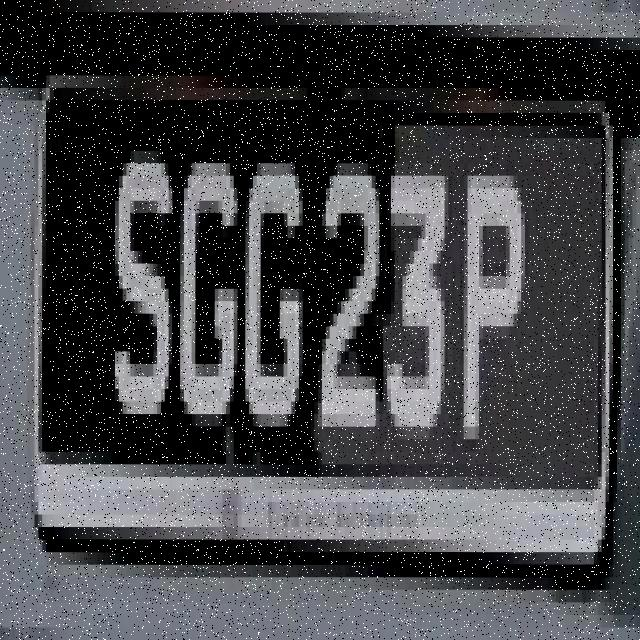licenseplate: (35, 74, 620, 574)
